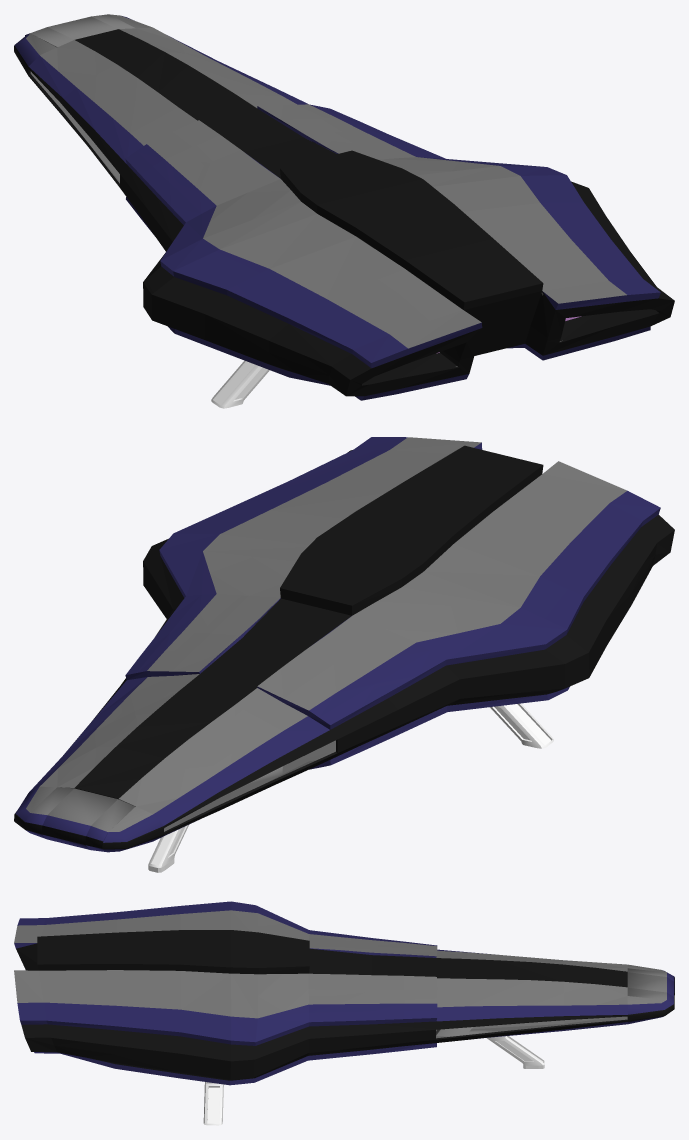
File: starshipv2.fbx
The picture shows the model from 3 angles, top to bottom: view 1: azimuth 30°, elevation 25°; view 2: azimuth 150°, elevation 25°; view 3: azimuth 270°, elevation 25°; orthographic projection. The views are drawn at different scales.
Parts seen in each view (by area): view 1: StarShipv1; view 2: StarShipv1; view 3: StarShipv1.
Part boxes in pixels (left/top/right/bottom): StarShipv1: left=14, top=14, right=674, bottom=408; StarShipv1: left=14, top=437, right=674, bottom=872; StarShipv1: left=14, top=901, right=674, bottom=1125.
Size of the model in its own units: 6152 by 11127 by 2215.
